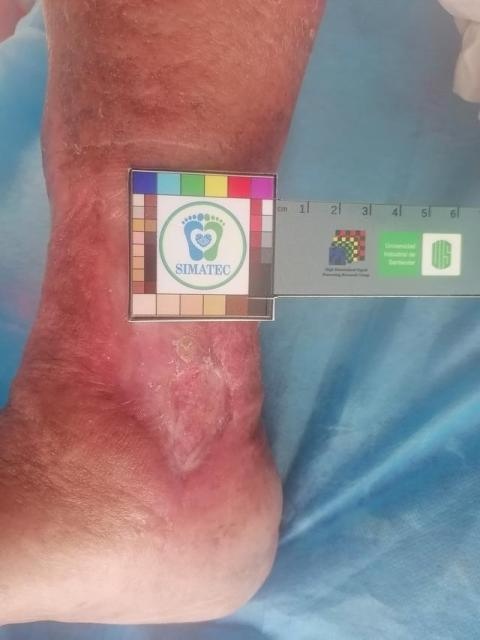wound: (158, 331, 237, 482)
